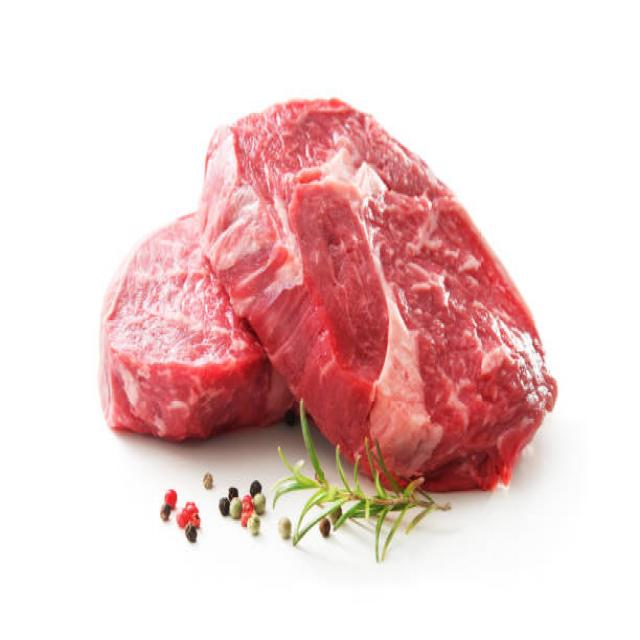beef: (201, 99, 558, 491), (99, 213, 294, 441)
